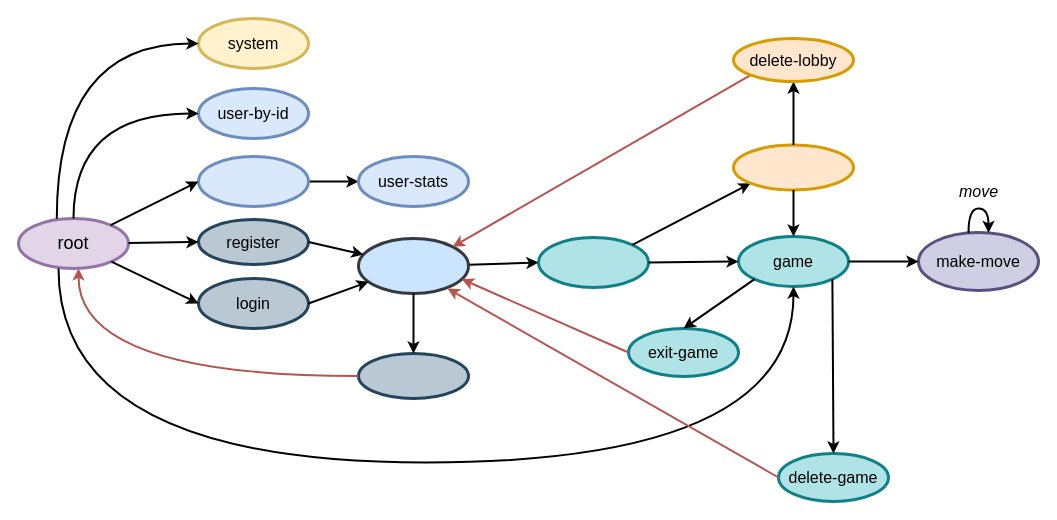
The diagram is 1057 pixels wide and 520 high, and some of its shapes have lost their labels. The shapes that lost their labels are listed below. From the top down, each one's centre as x and y in pixels, then its label:
At point 253,181: "users-stats".
At point 793,167: "lobby".
At point 413,265: "home".
At point 593,262: "find-game".
At point 413,376: "logout".
